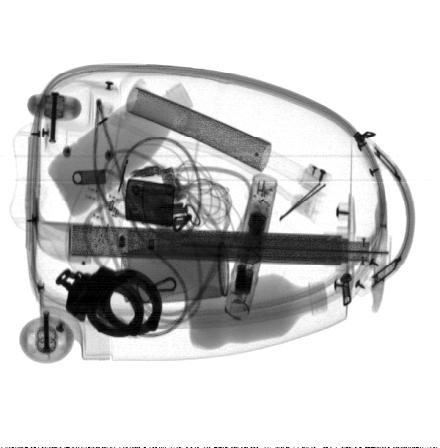Baton: (225, 172, 277, 321)
HandCuffs: (55, 265, 163, 337)
Lighter: (125, 179, 174, 227)
